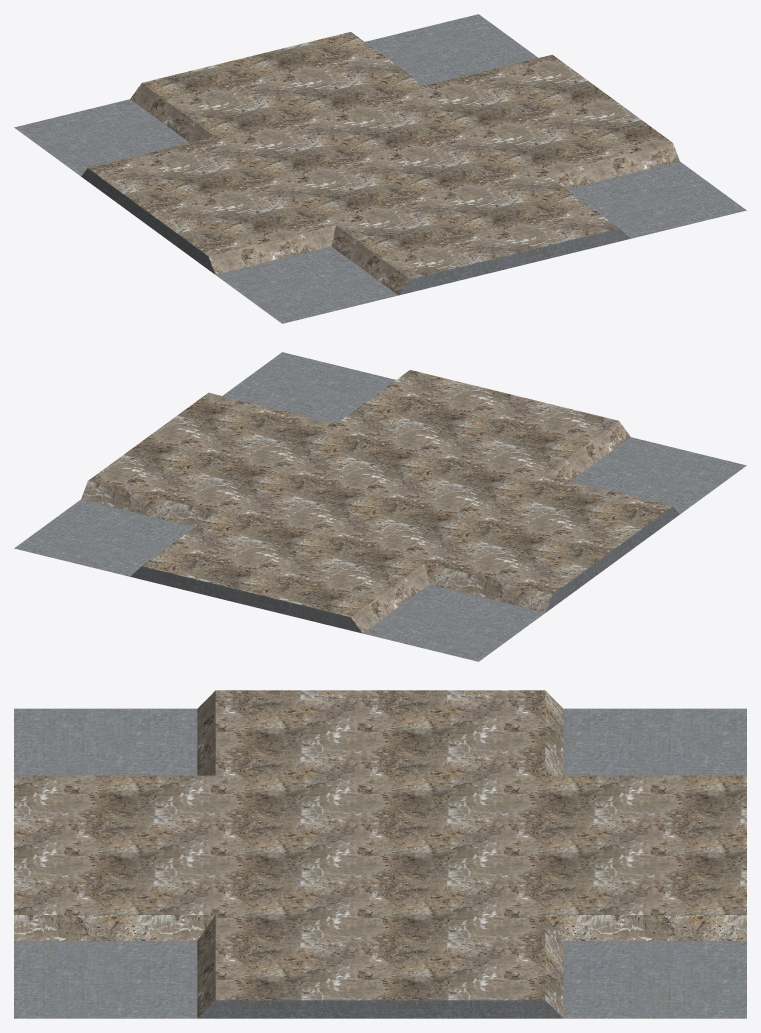
The picture shows the model from 3 angles, top to bottom: view 1: azimuth 30°, elevation 25°; view 2: azimuth 150°, elevation 25°; view 3: azimuth 270°, elevation 25°; orthographic projection. The views are drawn at different scales.
Visible parts, largest first — view 1: TexturesCom_ConcreteRough0076_1_seamless_S, TexturesCom_ConcreteBare0398_7_seamless_S; view 2: TexturesCom_ConcreteRough0076_1_seamless_S, TexturesCom_ConcreteBare0398_7_seamless_S; view 3: TexturesCom_ConcreteRough0076_1_seamless_S, TexturesCom_ConcreteBare0398_7_seamless_S.
Boxes of the visible parts, x1,y1,x2,y2 form: TexturesCom_ConcreteRough0076_1_seamless_S: (88,32,679,295); TexturesCom_ConcreteBare0398_7_seamless_S: (14,14,746,323); TexturesCom_ConcreteRough0076_1_seamless_S: (81,370,672,633); TexturesCom_ConcreteBare0398_7_seamless_S: (14,352,746,661); TexturesCom_ConcreteRough0076_1_seamless_S: (14,690,746,1017); TexturesCom_ConcreteBare0398_7_seamless_S: (14,708,746,1018).
Bounding box in the file's own units: 5 × 0.1384 × 5.
2 materials, 2 textured.
